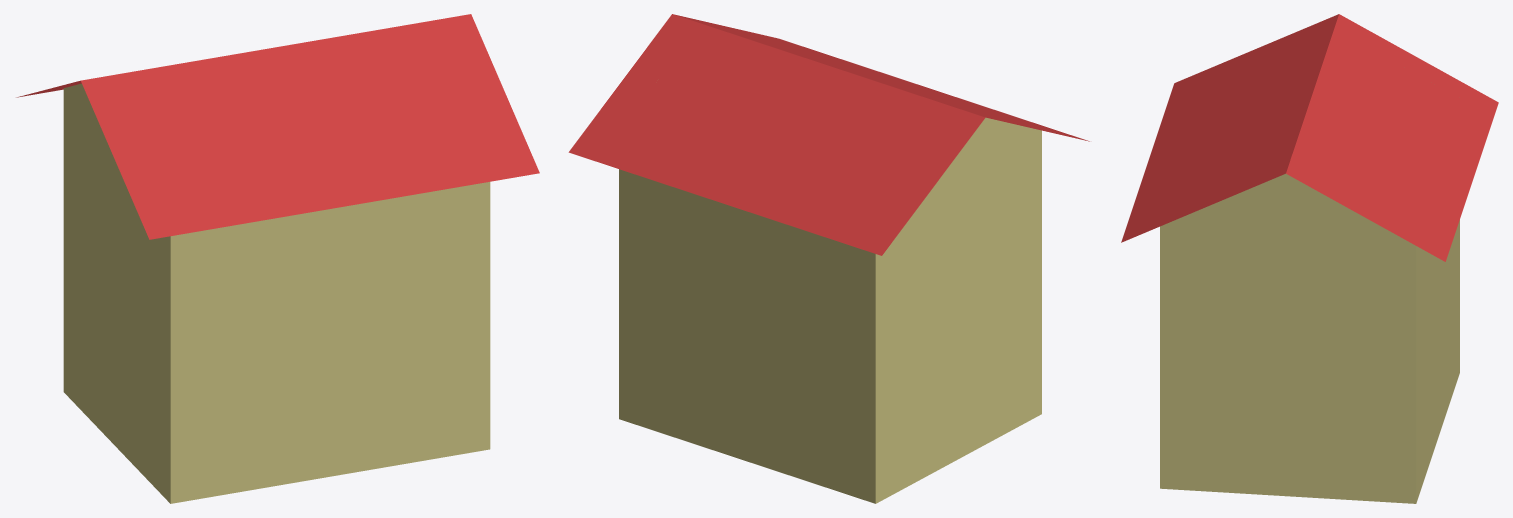
The picture shows the model from 3 angles, left to right: view 1: azimuth 30°, elevation 25°; view 2: azimuth 150°, elevation 25°; view 3: azimuth 270°, elevation 25°; orthographic projection. The views are drawn at different scales.
Size of the model in its own units: 12.27 by 10.95 by 10.78.
